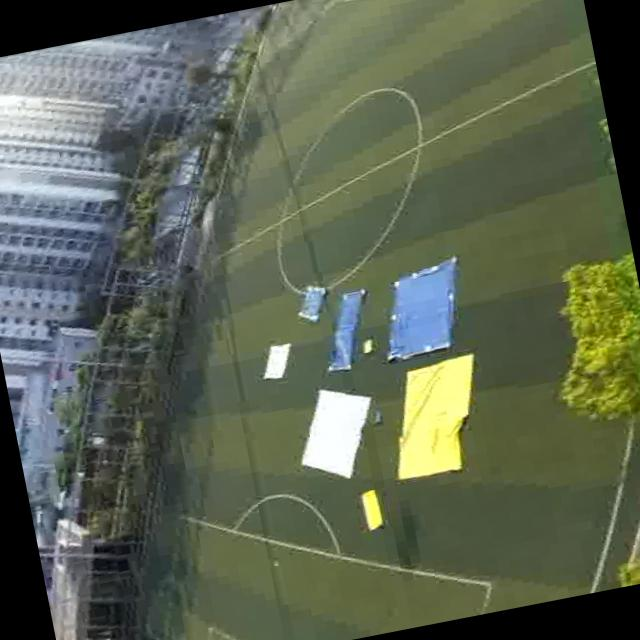danger: (370, 258, 473, 360), (316, 320, 361, 372), (287, 280, 336, 326)
safety: (282, 374, 386, 491), (253, 336, 304, 384)
warning: (373, 348, 503, 484), (351, 482, 388, 532)
